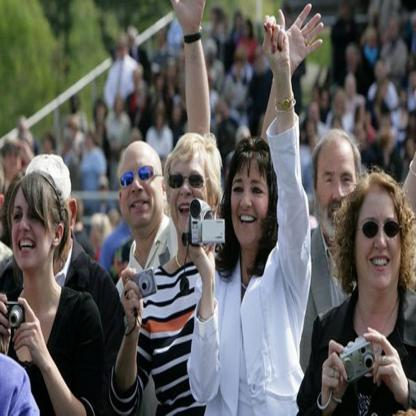face: (360, 194, 402, 289), (13, 186, 52, 268), (318, 148, 355, 234), (233, 164, 269, 249), (122, 153, 160, 229), (170, 154, 206, 233)
